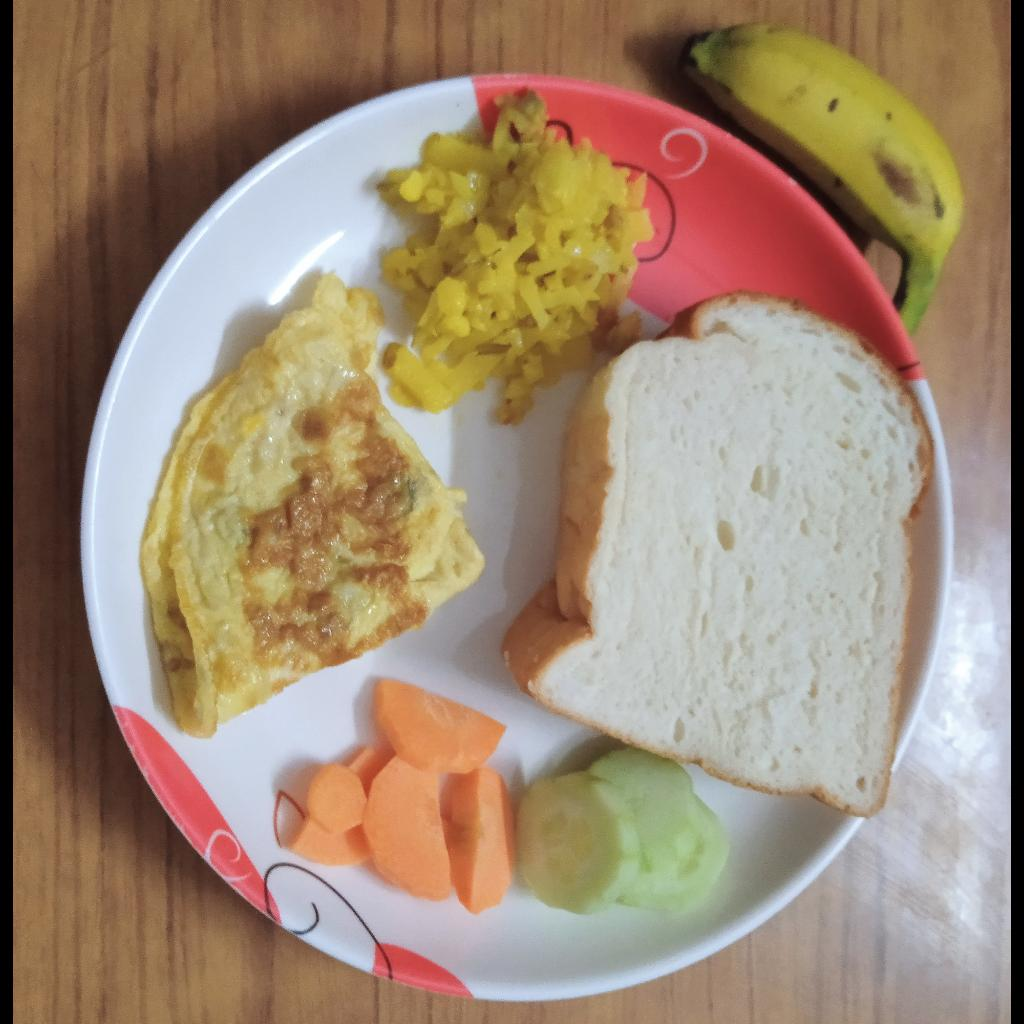banana: (683, 22, 965, 340)
bread: (494, 289, 934, 821)
cabbage: (379, 84, 665, 432)
carrot: (287, 681, 515, 913)
cucumber: (516, 747, 729, 914)
egg-poached: (142, 275, 489, 740)
